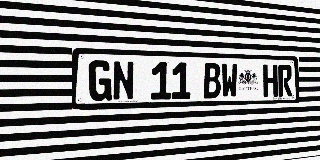1: (151, 62, 171, 100), (172, 62, 190, 99)
B: (203, 63, 221, 98)
G: (89, 60, 112, 101)
H: (263, 64, 278, 97)
N: (113, 61, 134, 101)
R: (278, 65, 292, 97)
W: (221, 63, 238, 98)
